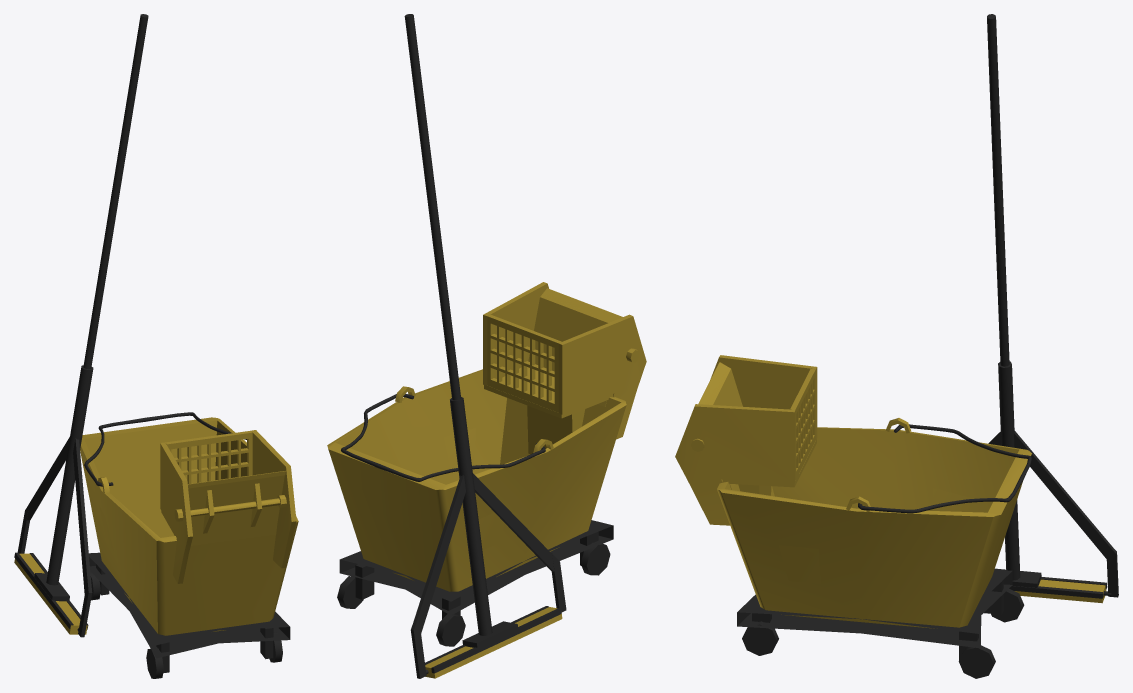
The model's file is bucket.fbx.
The picture shows the model from 3 angles, left to right: view 1: azimuth 30°, elevation 25°; view 2: azimuth 150°, elevation 25°; view 3: azimuth 270°, elevation 25°; orthographic projection. The views are drawn at different scales.
Visible parts, largest first — view 1: Bucket; view 2: Bucket; view 3: Bucket.
Boxes of the visible parts, x1=… form: Bucket: x1=14, y1=14, x2=298, y2=678; Bucket: x1=327, y1=14, x2=646, y2=678; Bucket: x1=675, y1=14, x2=1118, y2=678.
Size of the model in its own units: 535 by 1579 by 1009.
